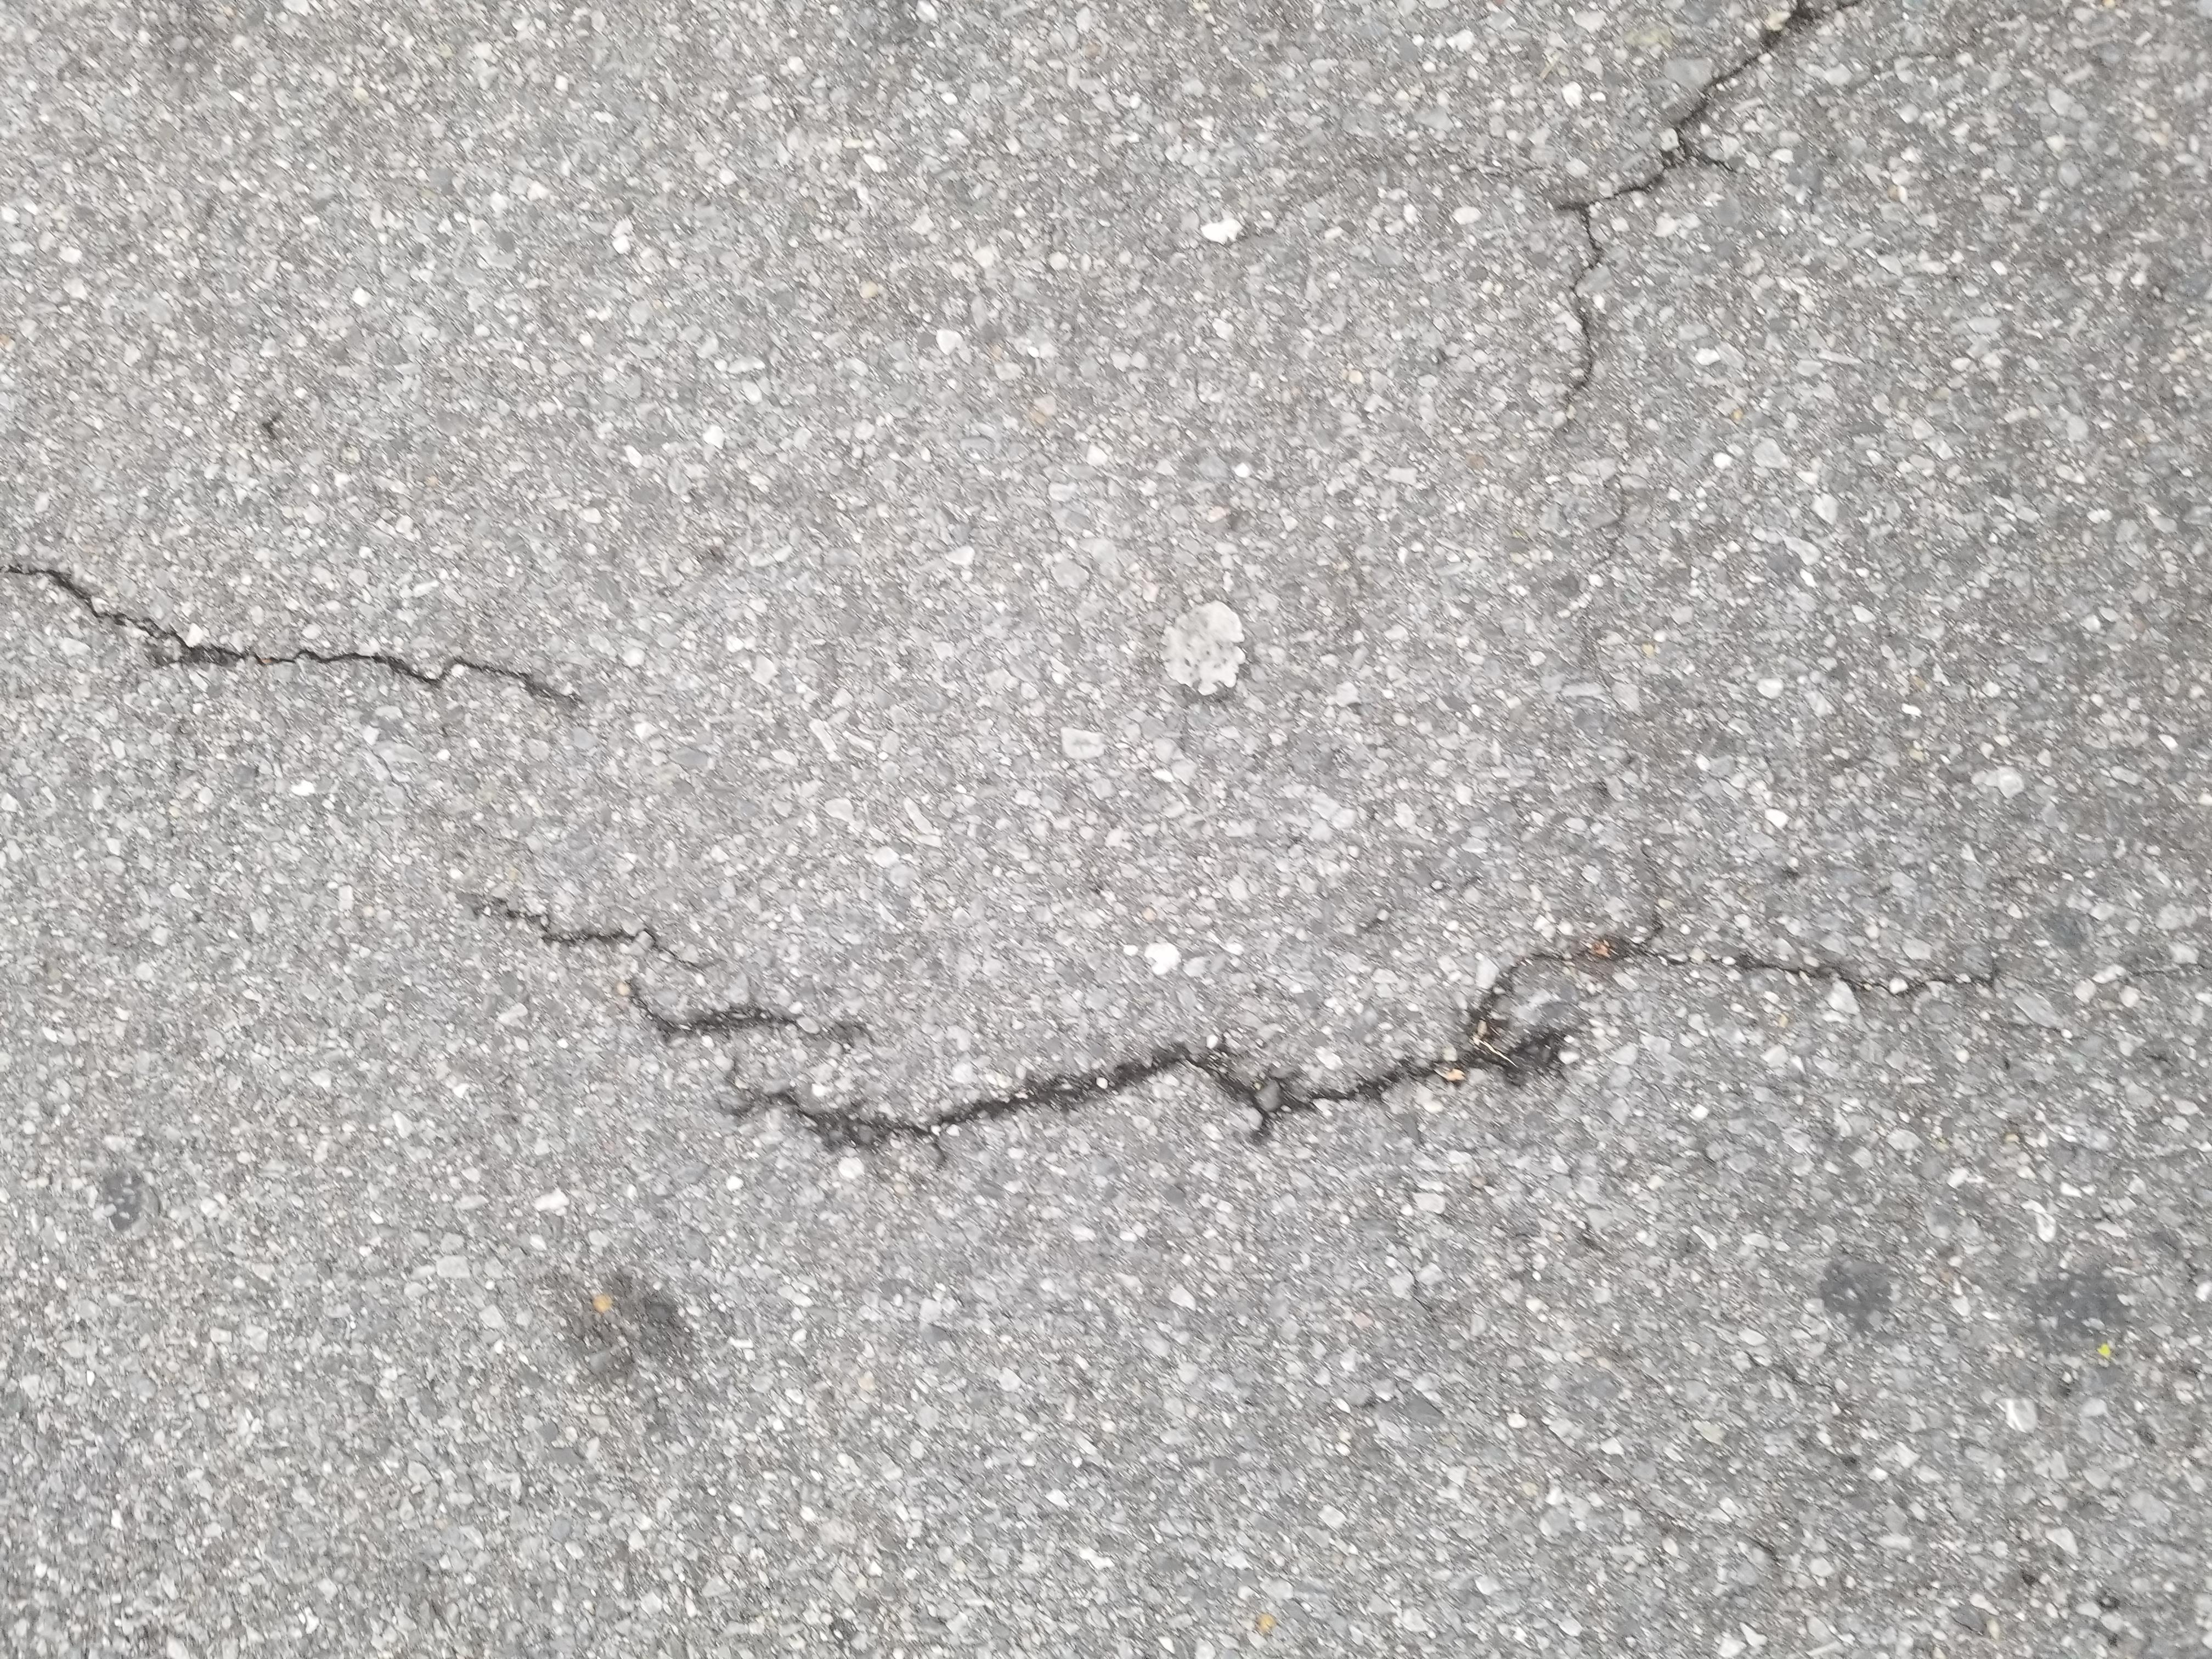crack: (648, 295, 1040, 1541), (1604, 1108, 2212, 1434), (1245, 0, 1496, 457)
